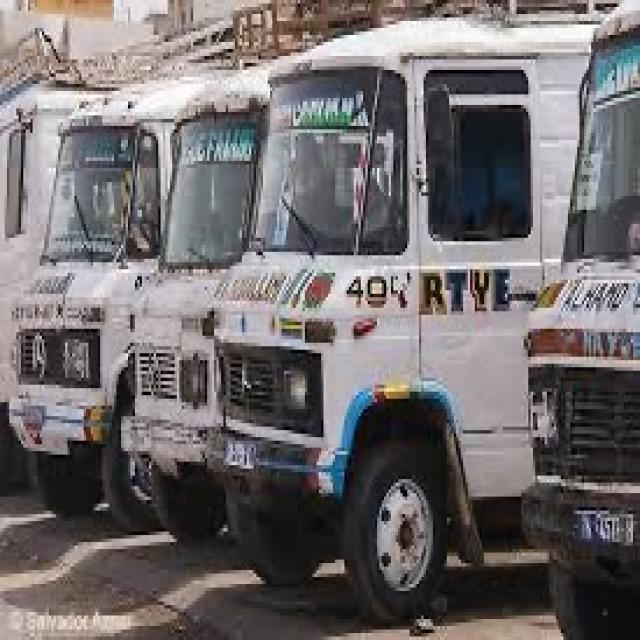ndiaga ndiaye: (221, 24, 591, 617), (1, 1, 156, 495), (525, 5, 640, 640), (12, 101, 175, 512), (126, 69, 267, 542)
